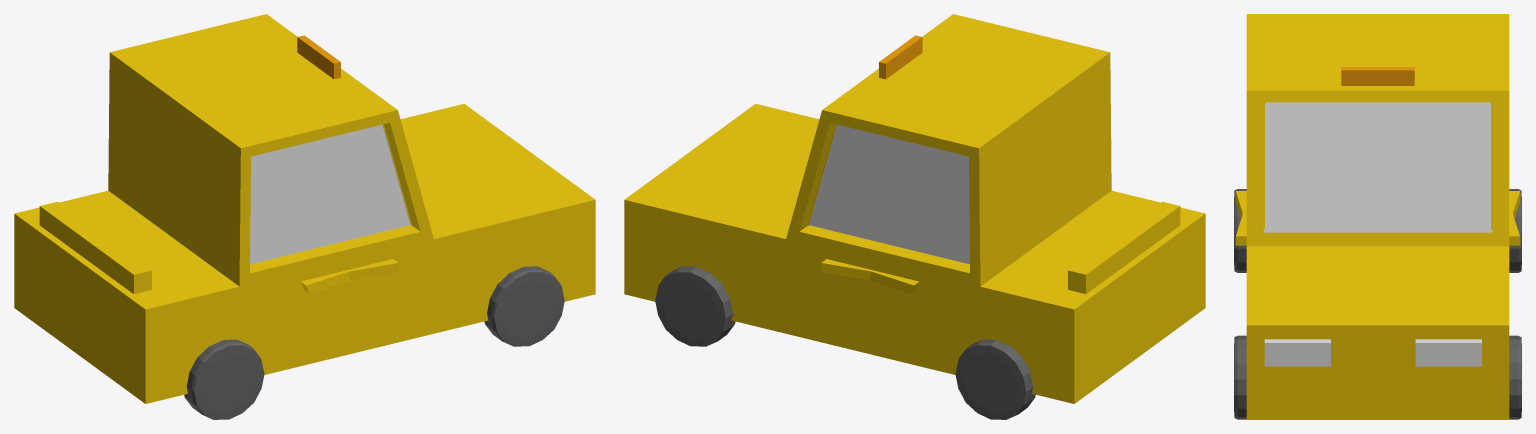
File: mono_taksi.fbx
3 views of the same model, side by side, from view 1: azimuth 30°, elevation 25°; view 2: azimuth 150°, elevation 25°; view 3: azimuth 270°, elevation 25° (orthographic).
Visible parts, largest first — view 1: Cube, Cylinder.001; view 2: Cube, Cylinder.001; view 3: Cube, Cylinder.001, Cube.001, Cube.002.
Boxes of the visible parts, left/top/right/bottom form: Cube: left=14, top=14, right=595, bottom=403; Cylinder.001: left=184, top=266, right=564, bottom=419; Cube: left=624, top=14, right=1205, bottom=403; Cylinder.001: left=655, top=266, right=1035, bottom=419; Cube: left=1235, top=14, right=1520, bottom=419; Cylinder.001: left=1234, top=189, right=1521, bottom=419; Cube.001: left=1264, top=339, right=1330, bottom=366; Cube.002: left=1415, top=339, right=1481, bottom=366.
Bounding box in the file's own units: 54.75 × 31.92 × 29.81.
